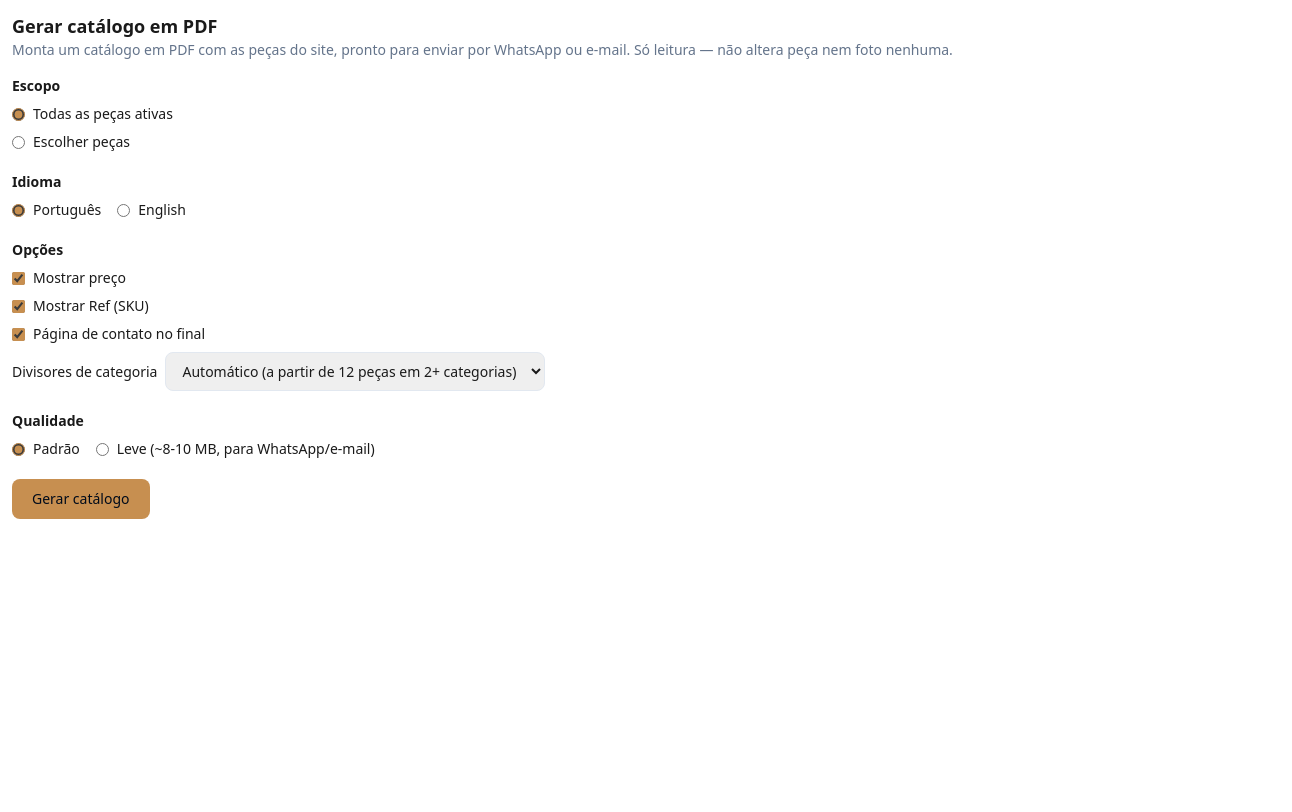
Test case: CatalogGenerator › exibe os avisos (título/preço provisório) quando a geração termina
Step 1. Click the button "Gerar catálogo" → click(81, 499), box [12, 479, 150, 519]
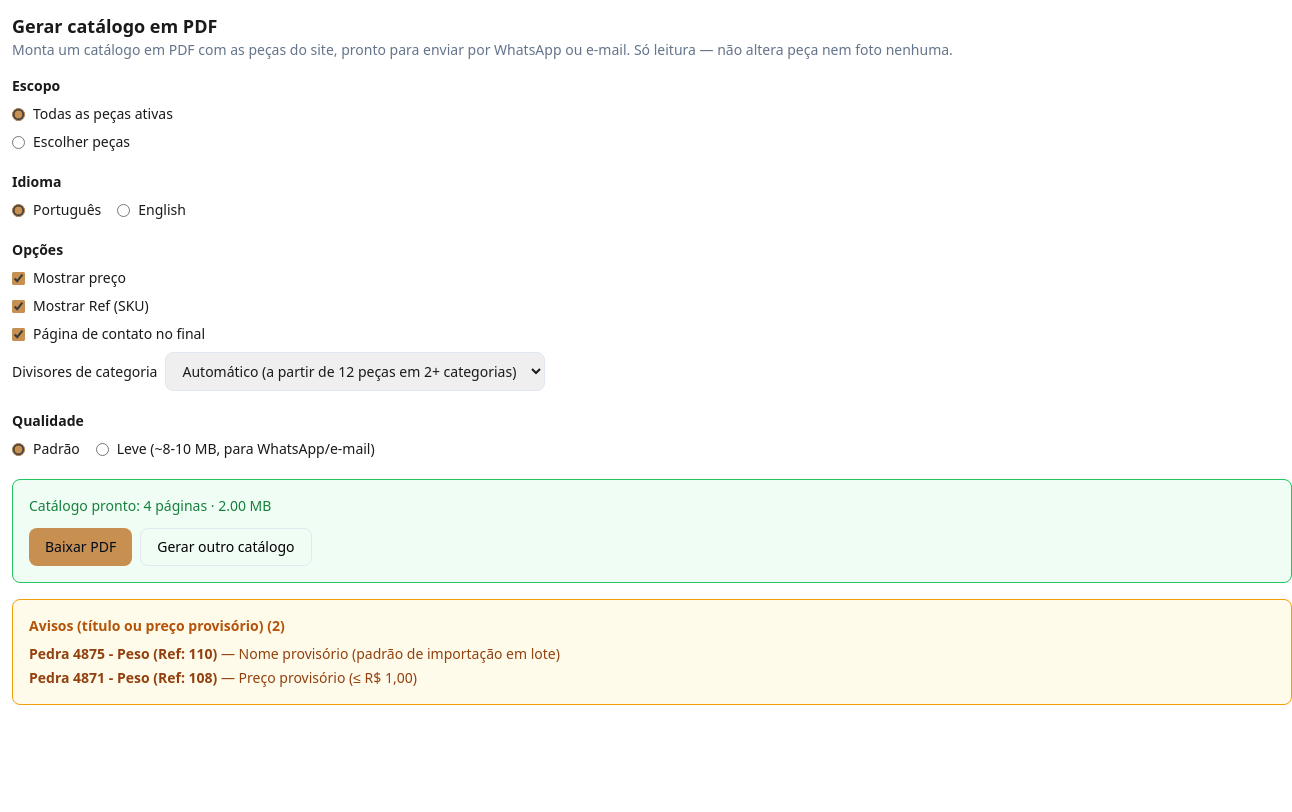
Expected: the text "Avisos (título ou preço provisório) (2)" is shown, [29, 616, 285, 635]
Expected: the text "Pedra 4875 - Peso (Ref: 110)" is shown, [29, 644, 217, 663]
Expected: the list item "Nome provisório" is shown, [239, 644, 560, 663]
